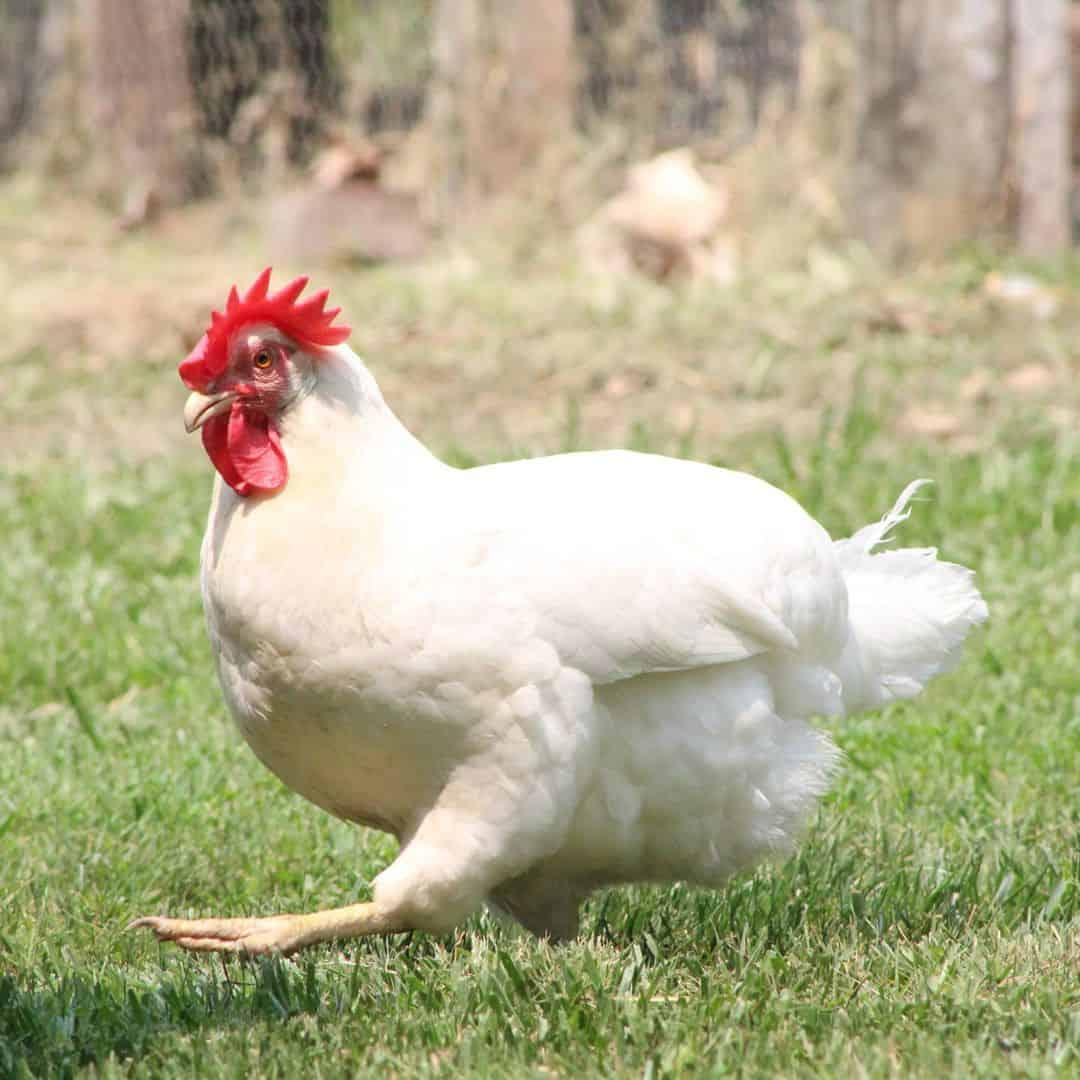AbNormal: (108, 263, 975, 956)
